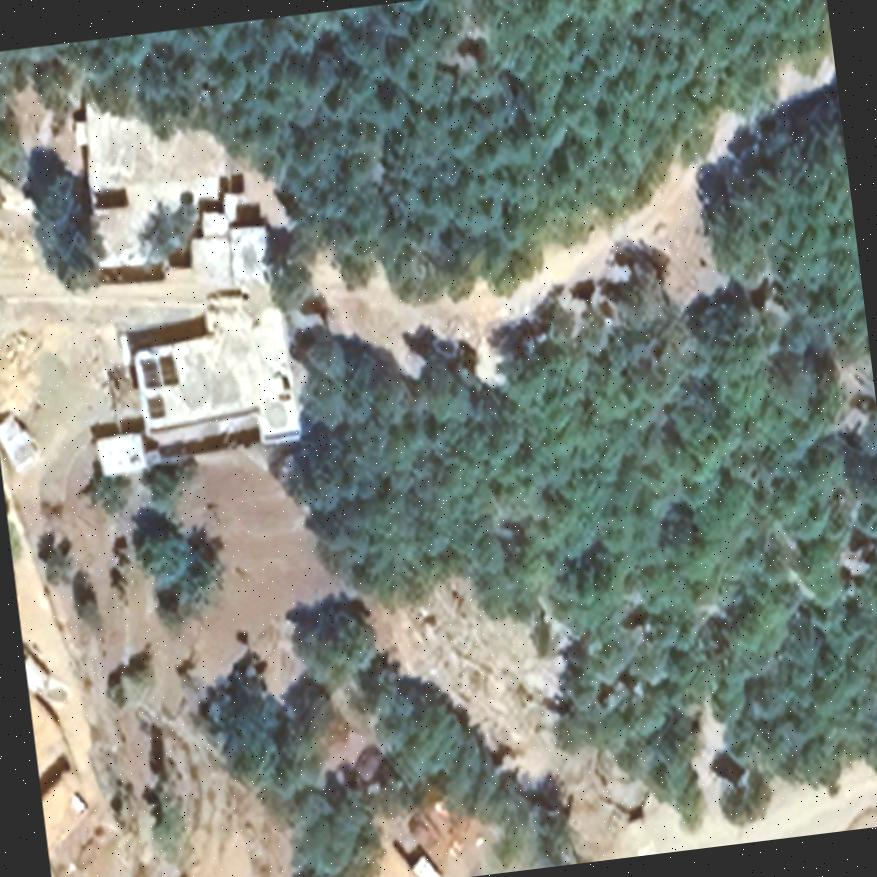Solarpanel: (136, 350, 180, 392), (143, 392, 167, 421)
